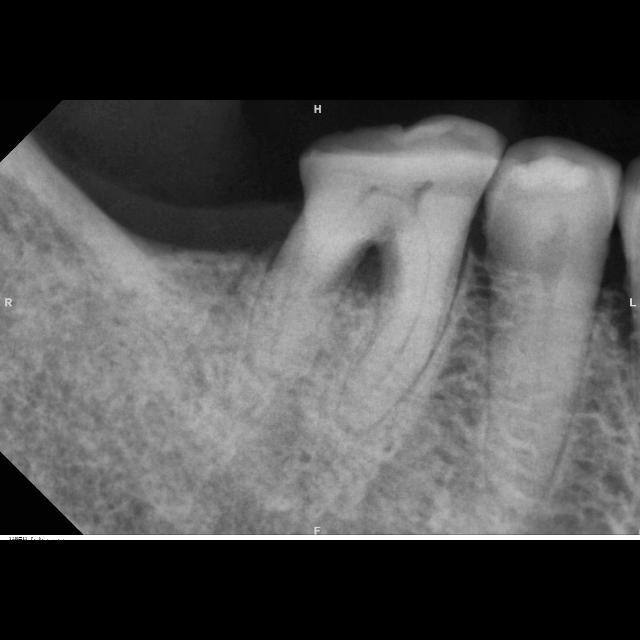teeth: (484, 138, 619, 514)
